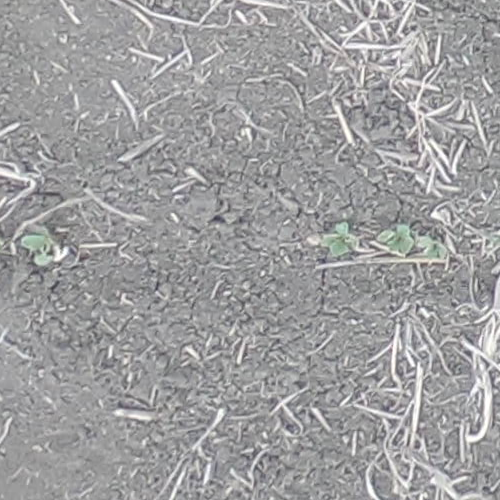plant: (321, 223, 353, 257), (376, 225, 412, 255), (22, 234, 54, 267), (417, 233, 447, 261)
